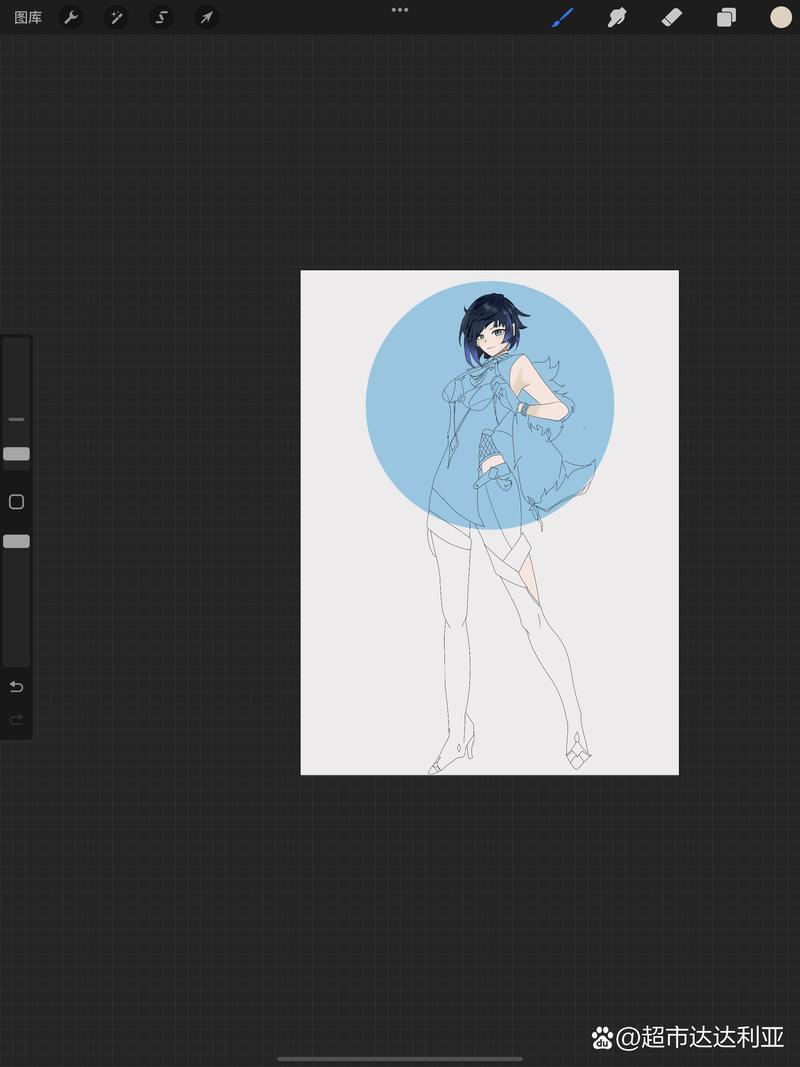夜兰: (449, 286, 545, 364)
